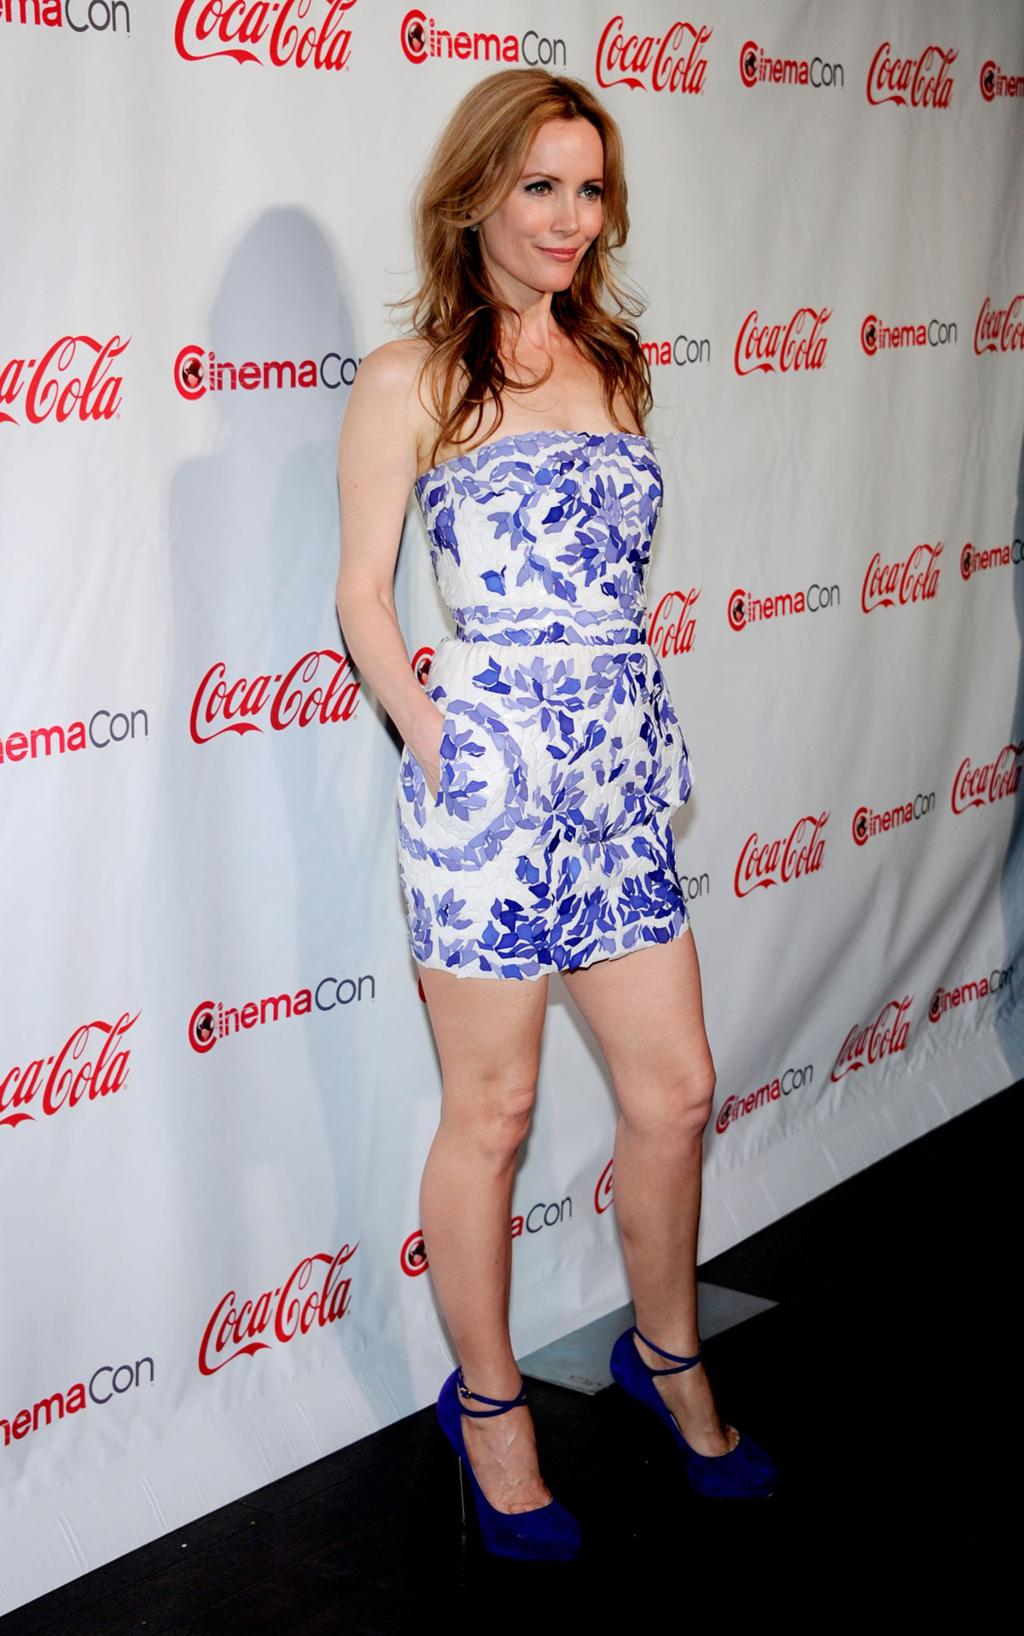face: (491, 108, 609, 293)
